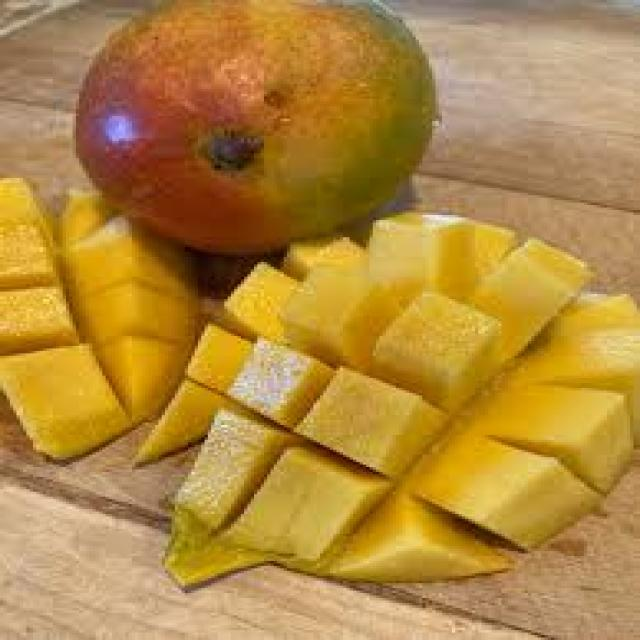mango: (132, 213, 640, 593)
